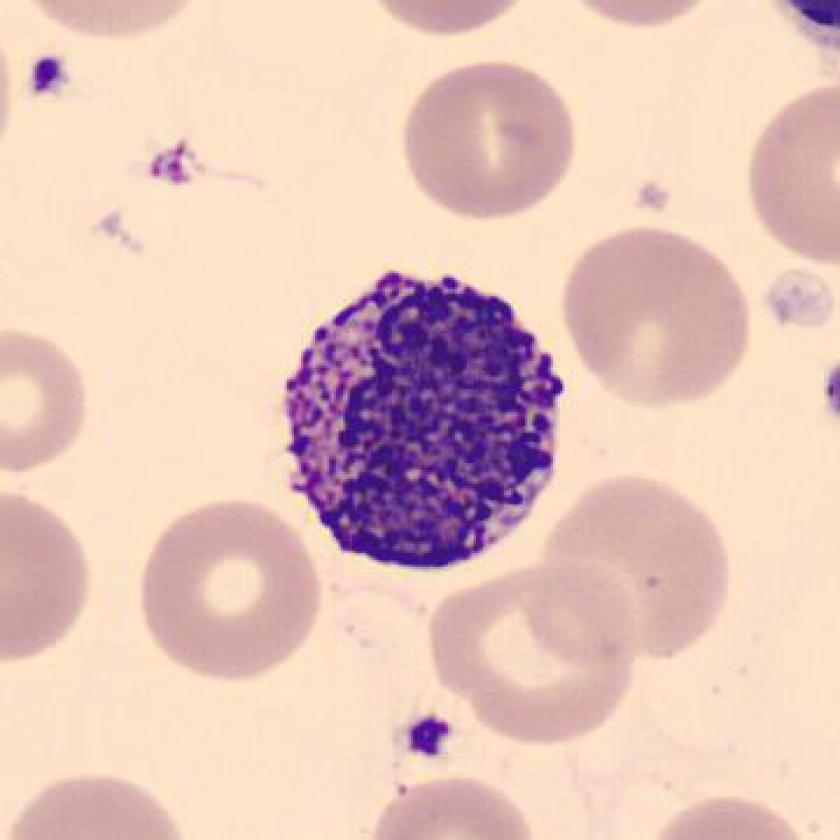basophil: (279, 270, 563, 573)
